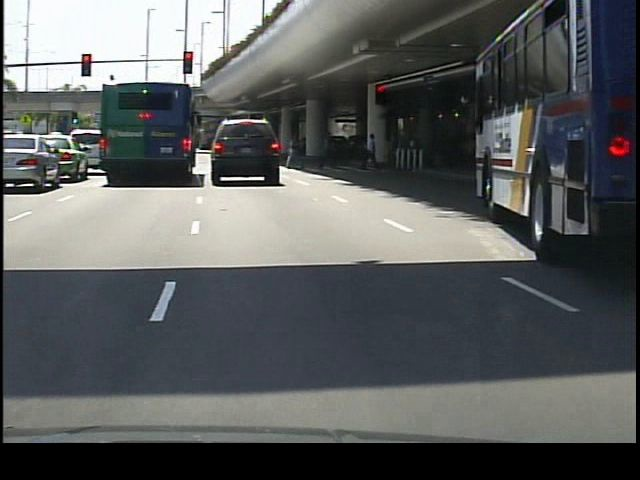person: (315, 127, 336, 173), (283, 128, 301, 173), (359, 131, 379, 171)
